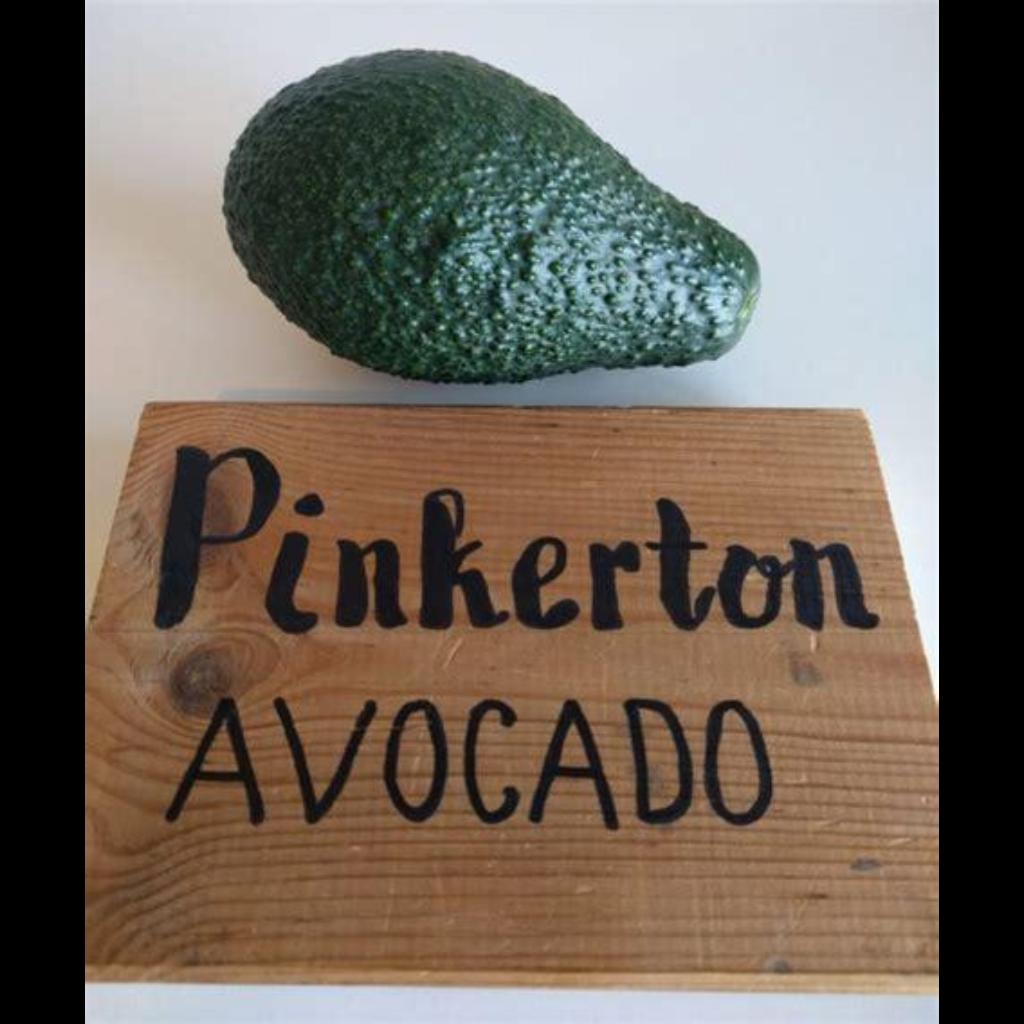Healthy: (157, 44, 783, 392)
